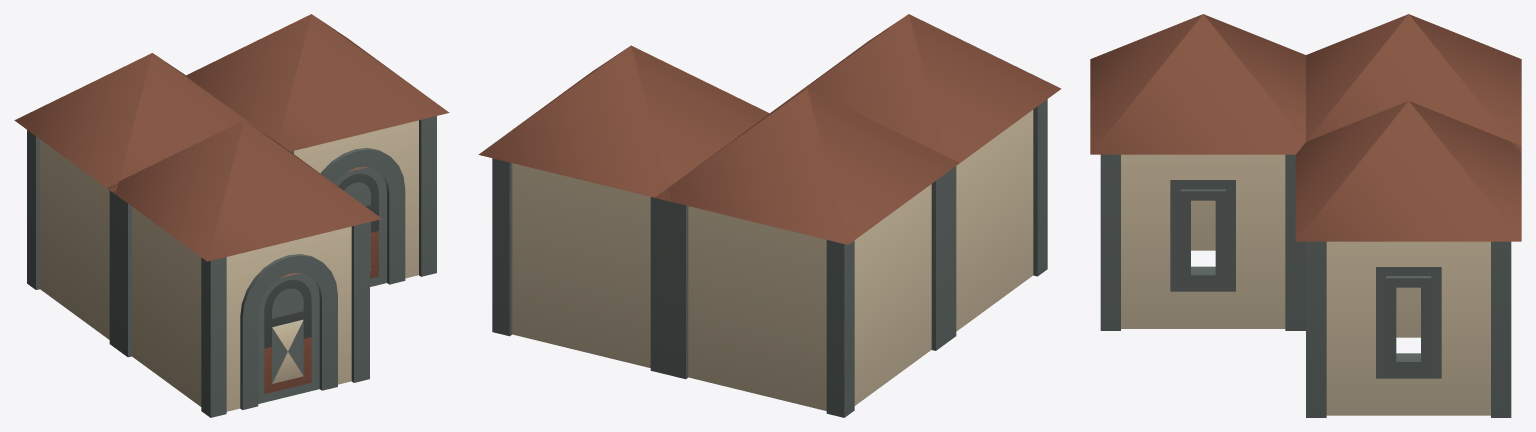
Rendered from home-crooked-wing.glb.
The picture shows the model from 3 angles, left to right: view 1: azimuth 30°, elevation 25°; view 2: azimuth 150°, elevation 25°; view 3: azimuth 270°, elevation 25°; orthographic projection. The views are drawn at different scales.
Visible parts, largest first — view 1: Original hip (×3), wall (×4), wall-door (×3), door (×2), wall-window-small (×2); view 2: wall (×6), Original hip (×3), wall-window-small (×2), wall-door (×2); view 3: Original hip (×3), wall-window-small (×2), wall (×4), wall-door (×2).
Boxes of the visible parts, box(x1,y1,x2,y2) form: Original hip (×3): box(14, 14, 449, 261); wall (×4): box(27, 130, 226, 417); wall-door (×3): box(109, 117, 436, 417); door (×2): box(258, 166, 386, 403); wall-window-small (×2): box(351, 116, 436, 382); wall (×6): box(492, 99, 1047, 417); Original hip (×3): box(478, 14, 1061, 244); wall-window-small (×2): box(492, 158, 688, 378); wall-door (×2): box(931, 99, 1047, 350); Original hip (×3): box(1090, 14, 1521, 241); wall-window-small (×2): box(1100, 154, 1511, 417); wall (×4): box(1191, 155, 1511, 417); wall-door (×2): box(1100, 154, 1326, 417).
Size of the model in its own units: 2.1 by 1.47 by 2.1.
Materials: 2 (1 with a texture image).
